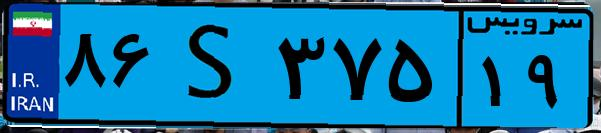1: (475, 38, 525, 113)
3: (270, 28, 330, 110)
5: (385, 28, 445, 110)
6: (110, 28, 158, 98)
7: (330, 28, 385, 110)
8: (57, 26, 110, 100)
9: (525, 38, 570, 115)
S: (158, 12, 270, 120)
